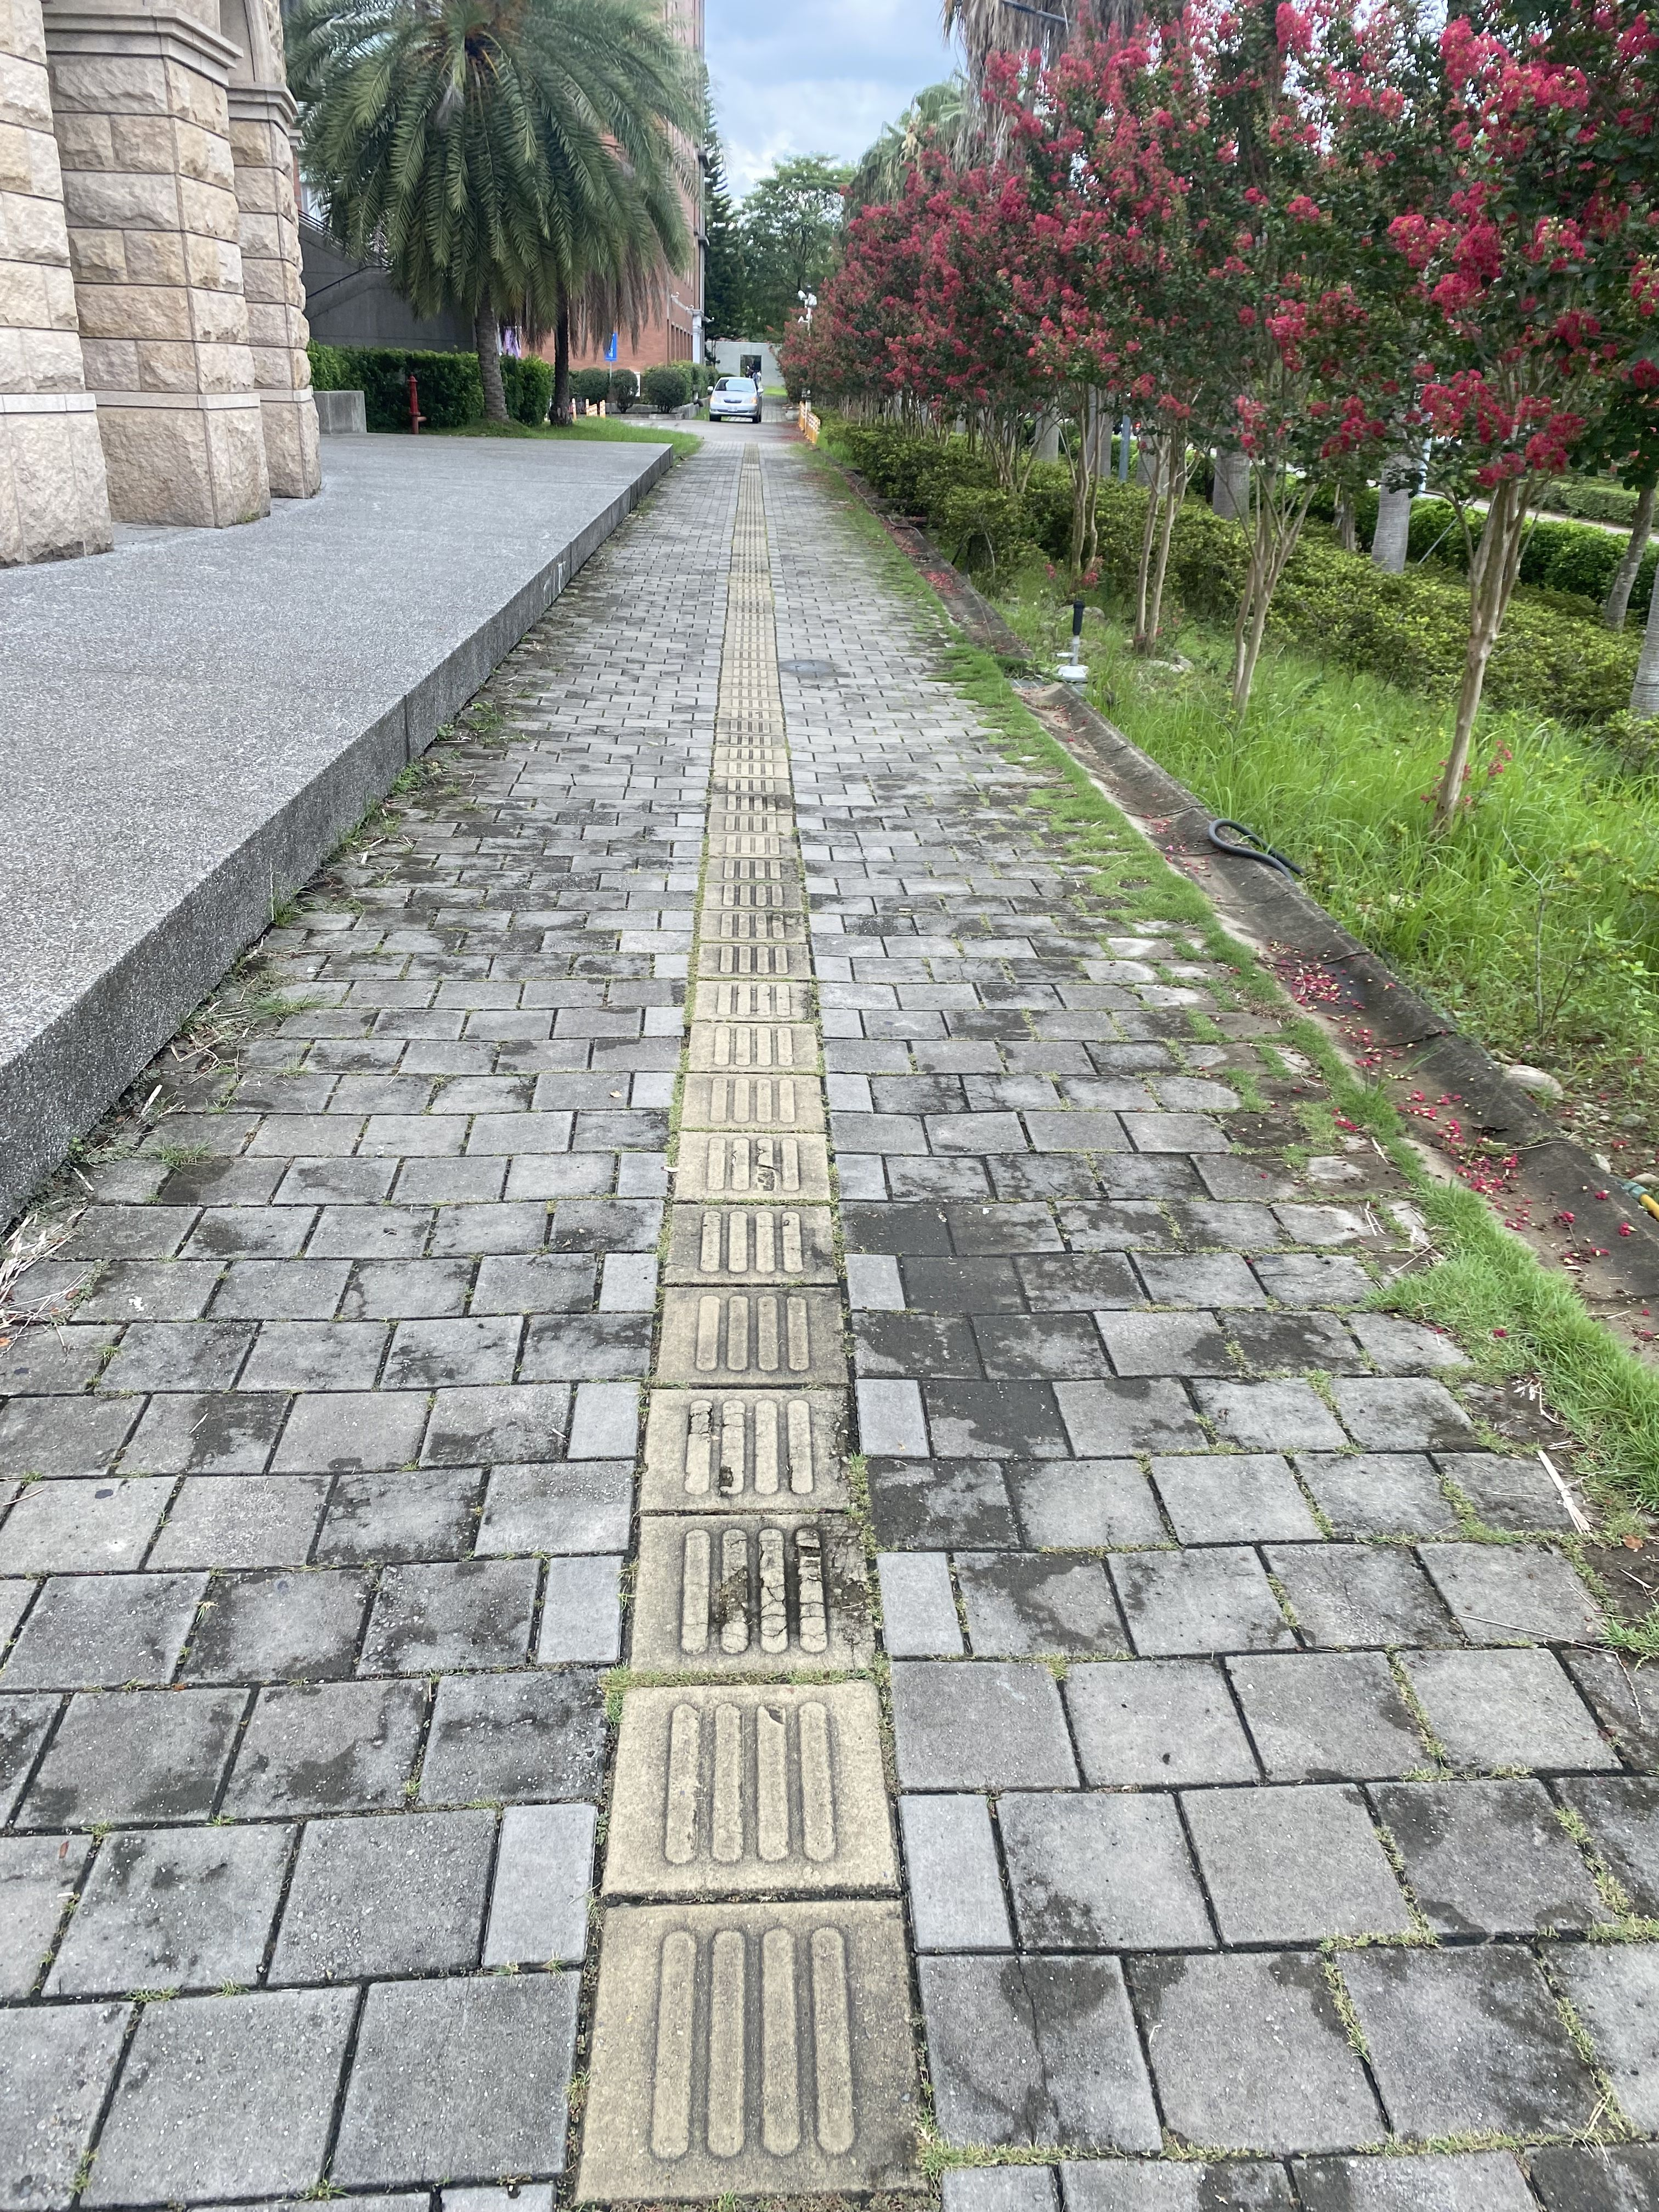0: (5, 627, 1659, 2212)
sidewalk: (525, 418, 1105, 1397)
